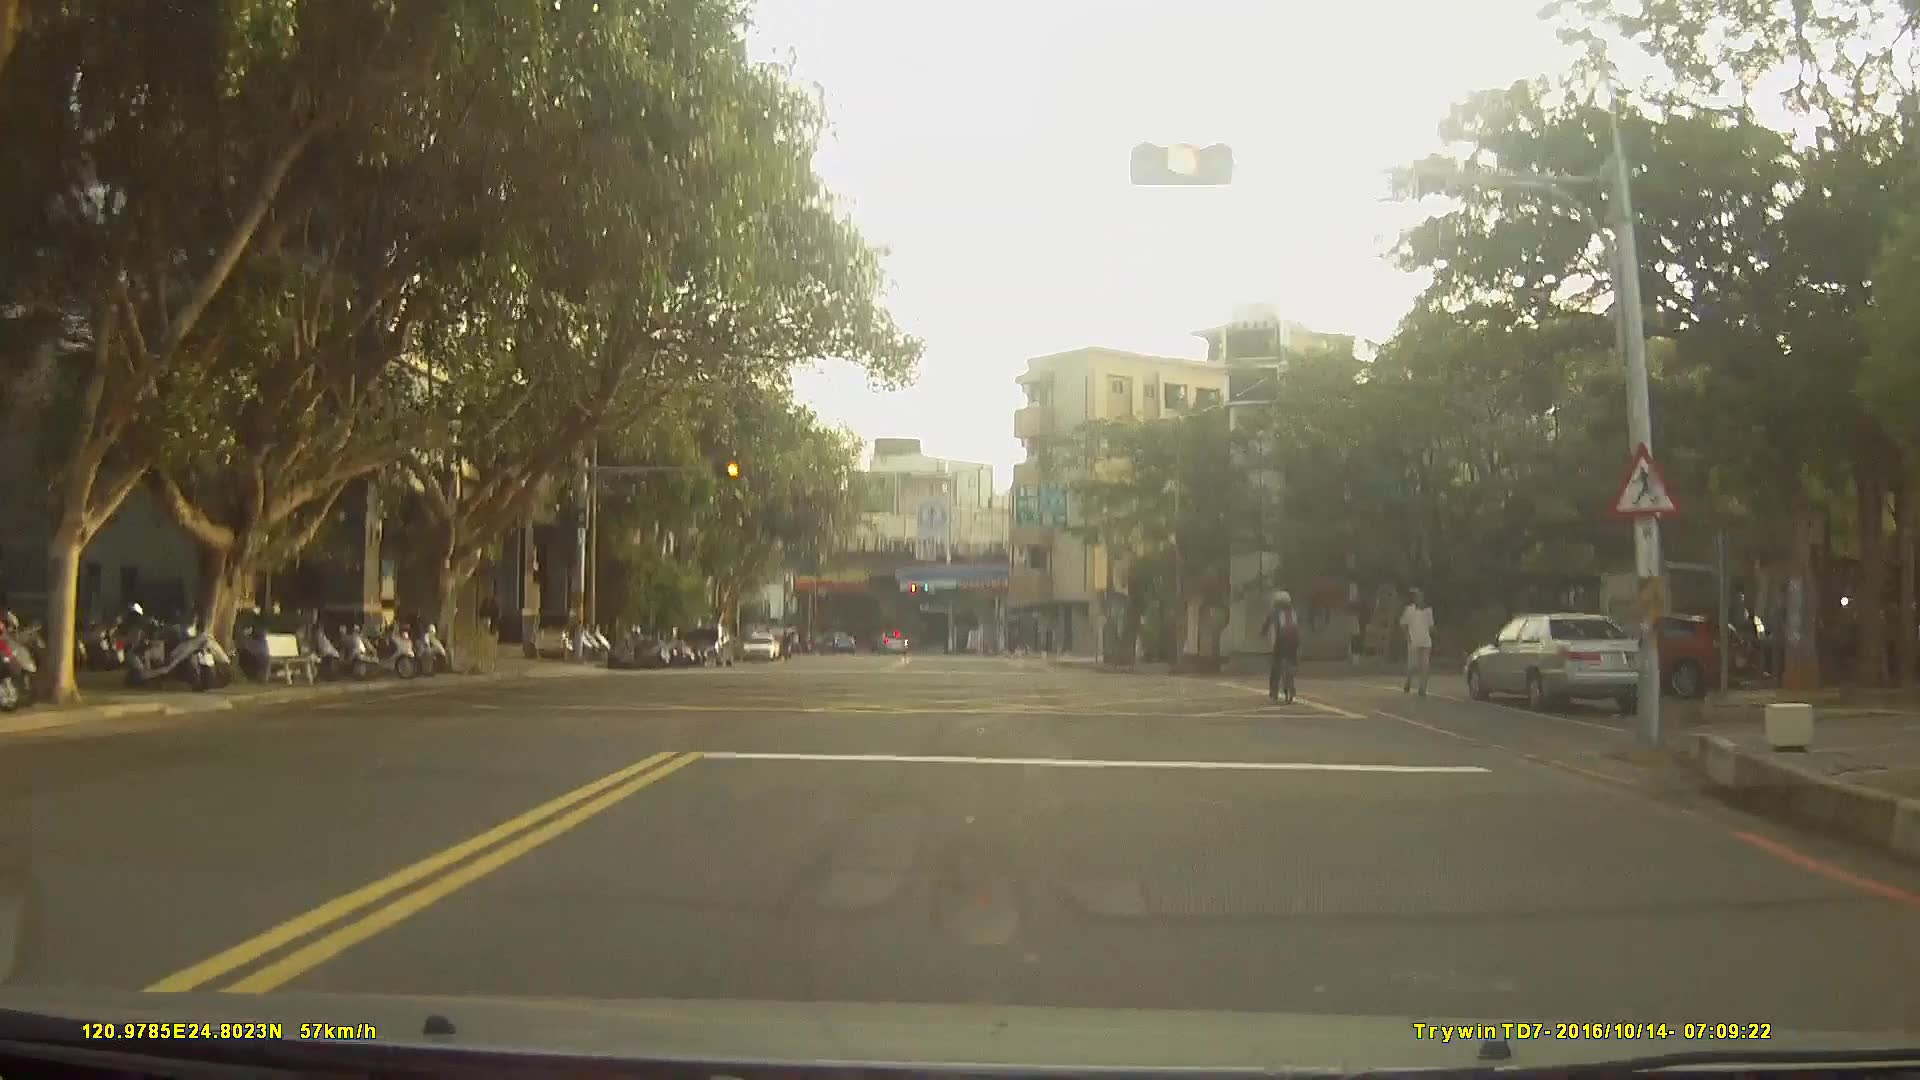pedestrian: (1395, 585, 1446, 695), (476, 597, 497, 647)
rider: (1262, 590, 1309, 704)
vehicle: (1463, 611, 1659, 714), (1591, 614, 1721, 701), (678, 622, 733, 669), (740, 629, 777, 661), (813, 633, 853, 656), (876, 630, 909, 656)
